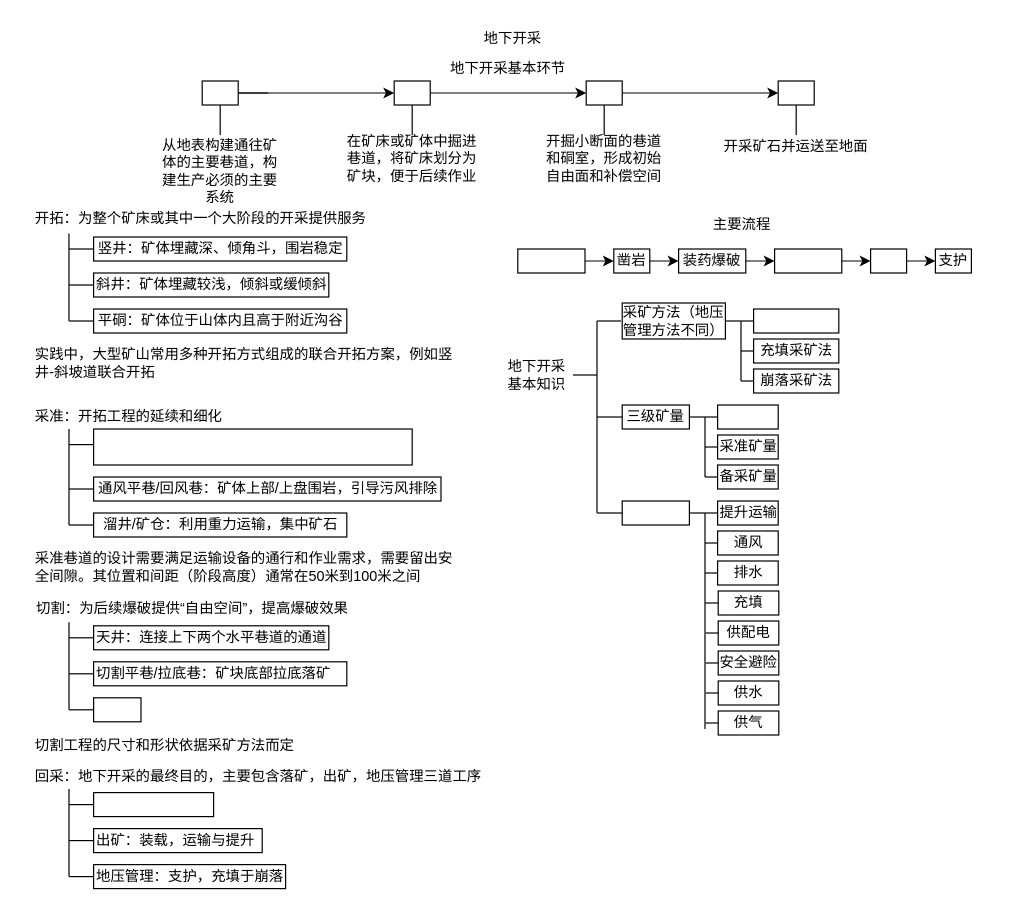
Image size: 1025x910. Some labels were removed from this diagram. The shapes that lost their labels are listed below. From the top down, each one's centre as x and y in pixels, then its label:
the point at 219,92: 开拓
the point at 411,92: 采准
the point at 603,92: 切割
the point at 795,92: 回采
the point at 551,260: 测量定线
the point at 807,260: 通风排烟
the point at 888,260: 排岩
the point at 795,320: 空场采矿法
the point at 747,416: 开拓矿量
the point at 252,446: 运输平巷：沿矿体走向或在矿体下盘围岩中掘进的水平巷道，运送矿石和废石
the point at 655,512: 井下系统
the point at 116,709: 切割槽
the point at 153,804: 落矿：凿岩与爆破
